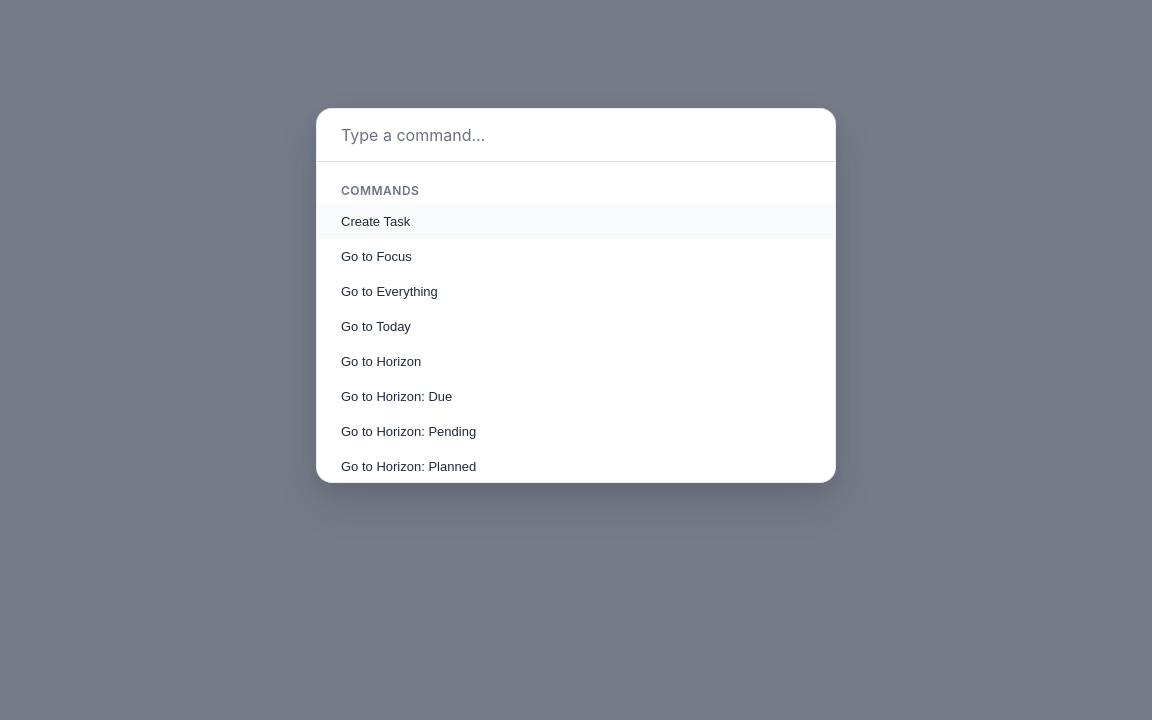
Scenario: CommandPalette › filters commands by query matching keywords
Type "bug" into the field with placeholder "Type a command…" at (576, 136), box [317,109,835,162]
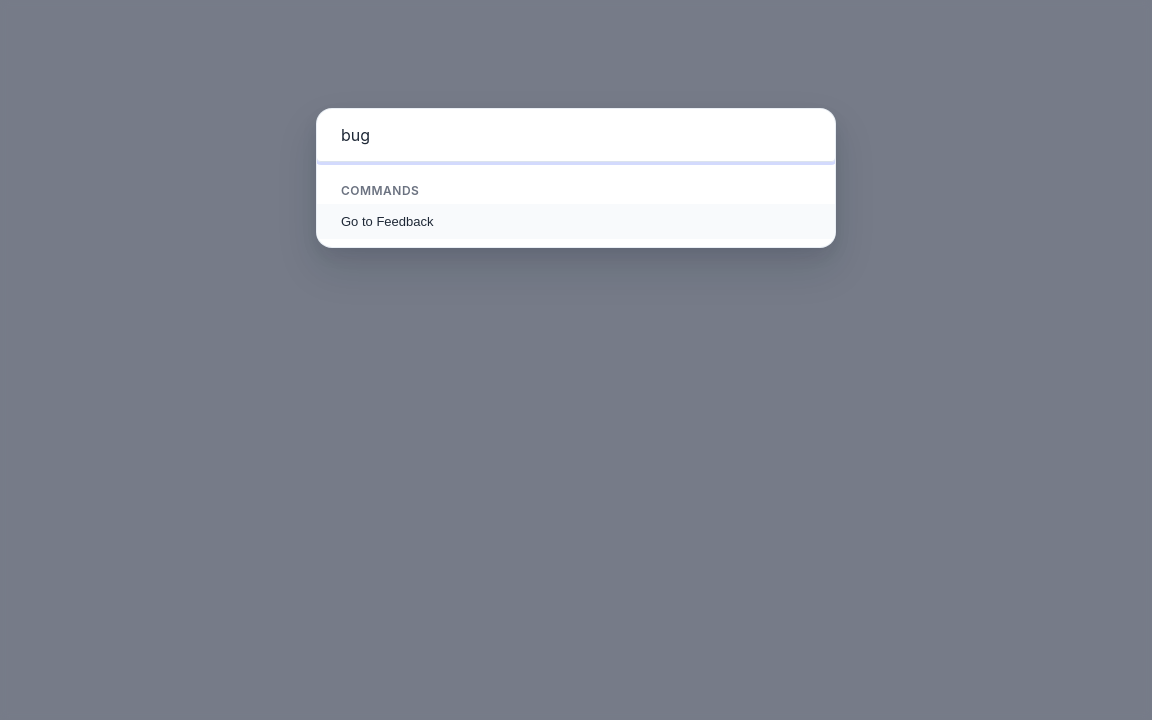
Check: the text "Go to Feedback" is shown, box [341,214,434,229]
